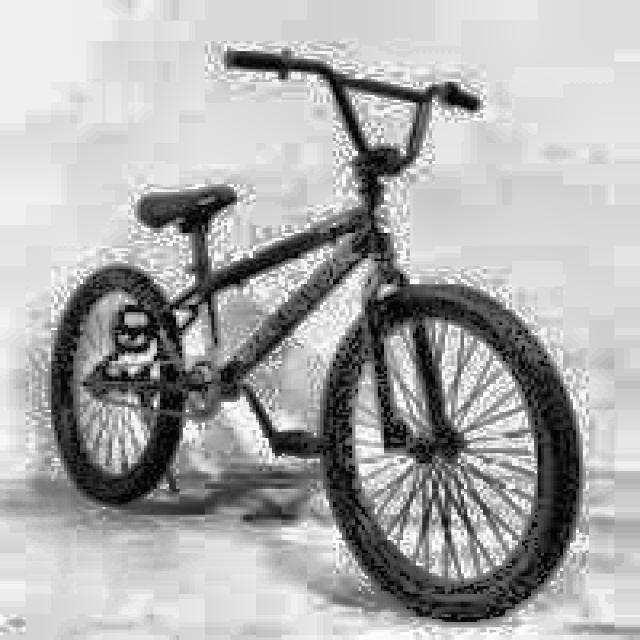bike: (41, 38, 590, 615)
